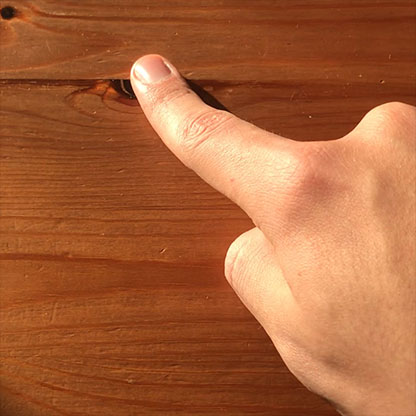fingertip: (119, 44, 191, 101)
